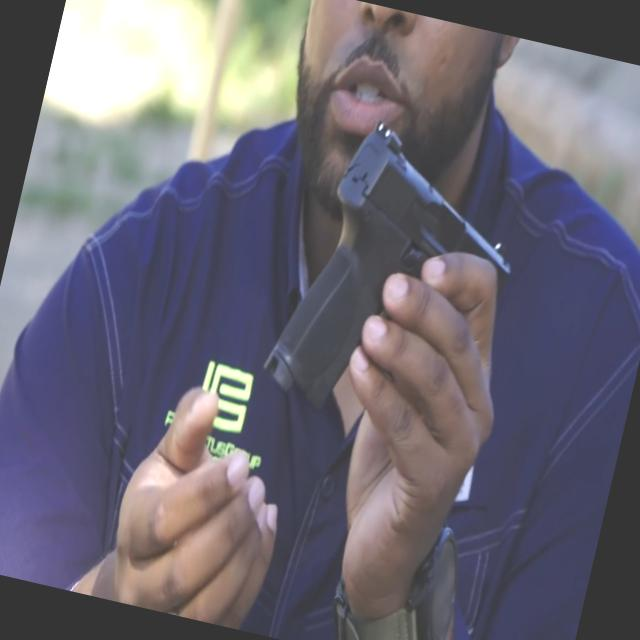handgun: (217, 118, 548, 478)
